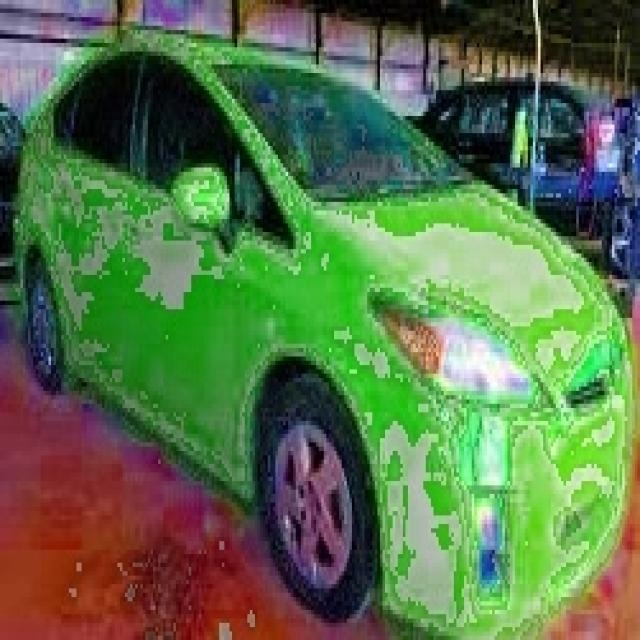green: (16, 38, 631, 640)
